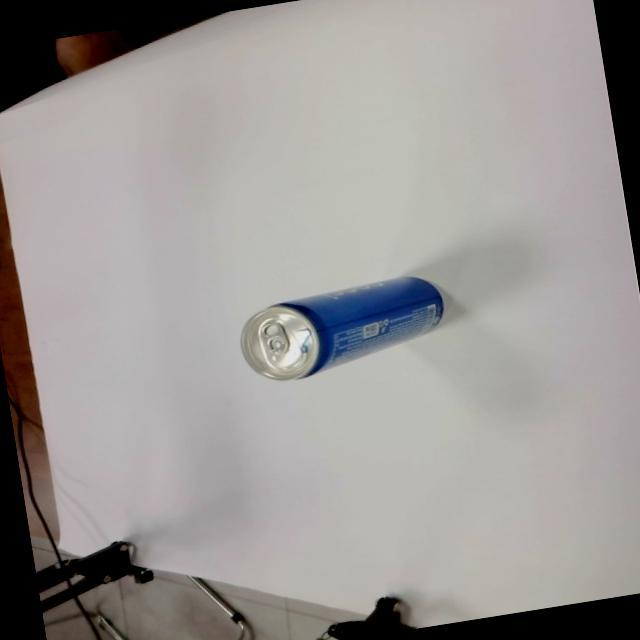debris: (232, 268, 452, 388)
